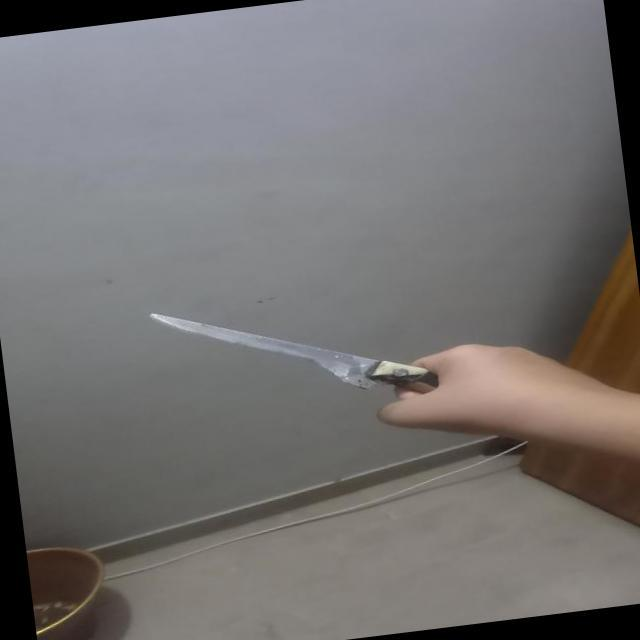Knife: (120, 272, 469, 450)
